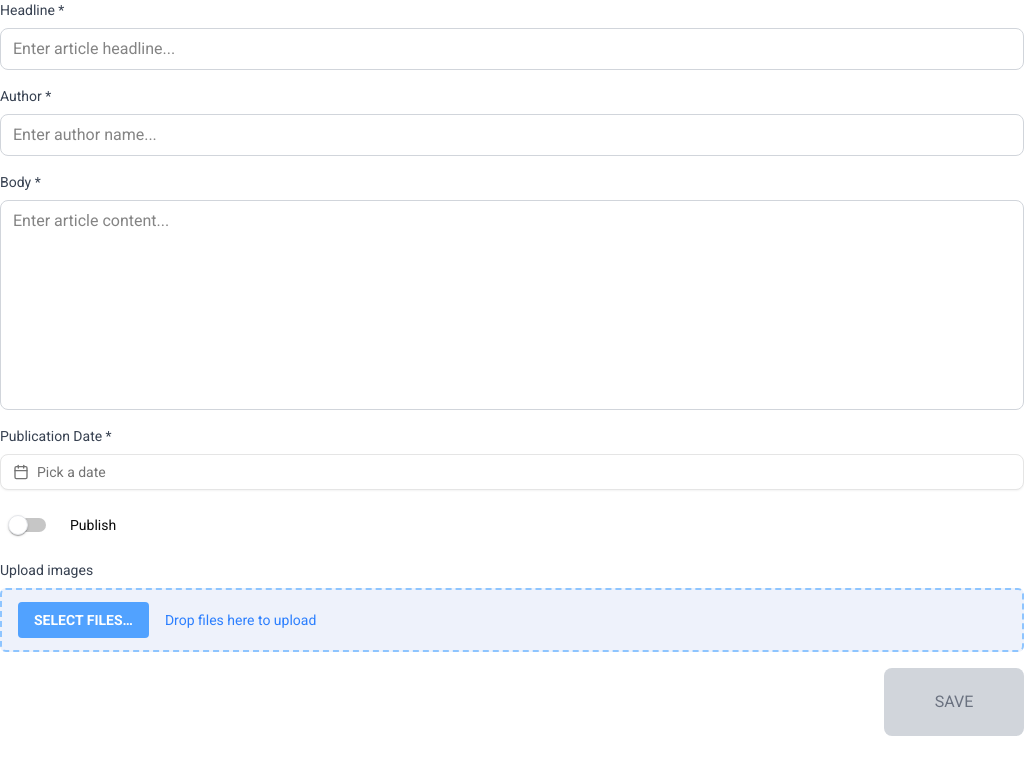
Test: ArticleForm › save button is enabled when all required fields are filled
# Fill all required fields using placeholders
Step 1. Type "Test Headline" into the field with placeholder "Enter article headline..." → [512, 49], box x1=0 y1=28 x2=1023 y2=70
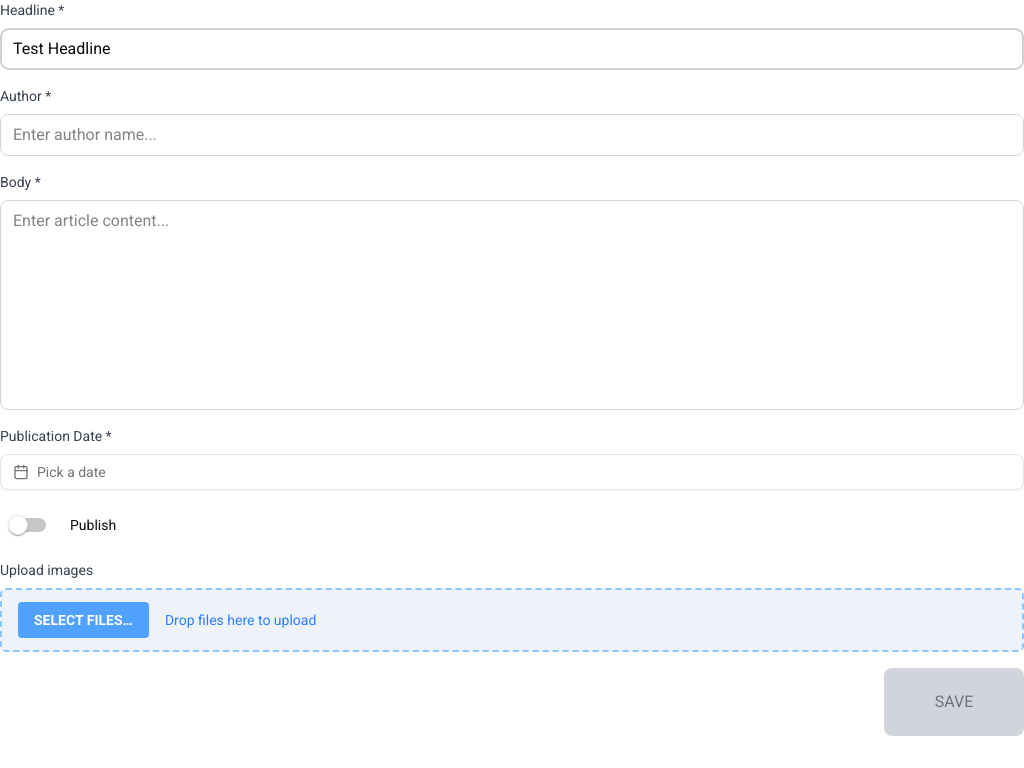
Step 2. Type "Test Author" into the field with placeholder "Enter author name..." → [512, 135], box x1=0 y1=114 x2=1023 y2=156
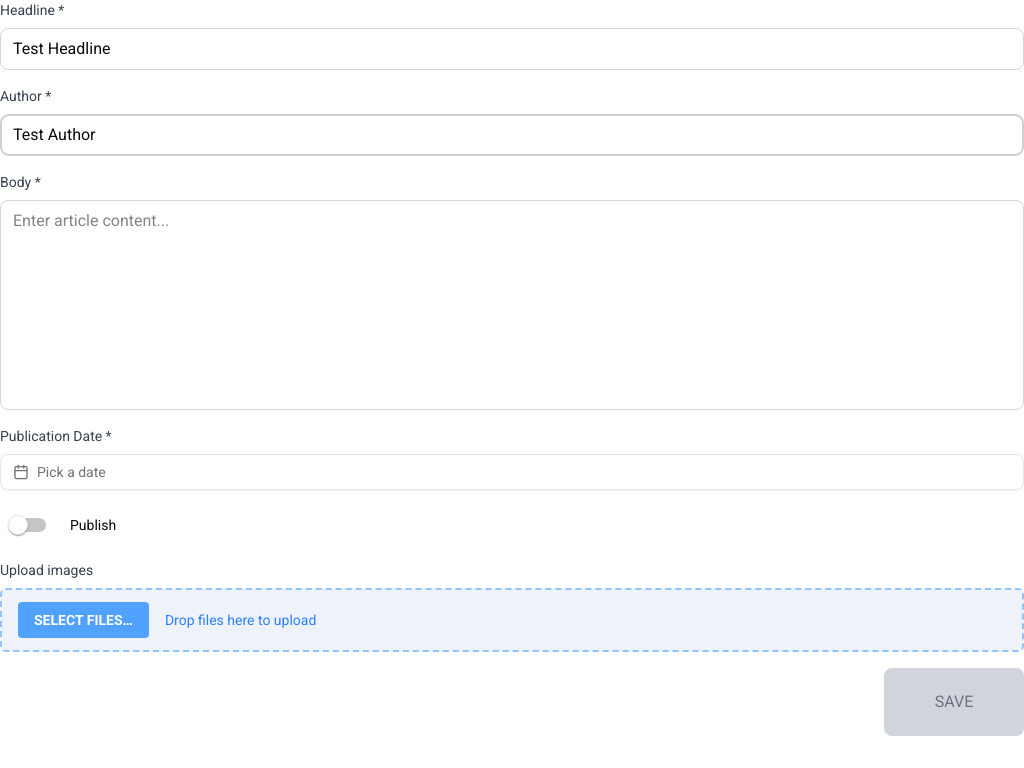
Step 3. Type "Test Body Content" into the text box with placeholder "Enter article content..." → [512, 305], box x1=0 y1=200 x2=1023 y2=410
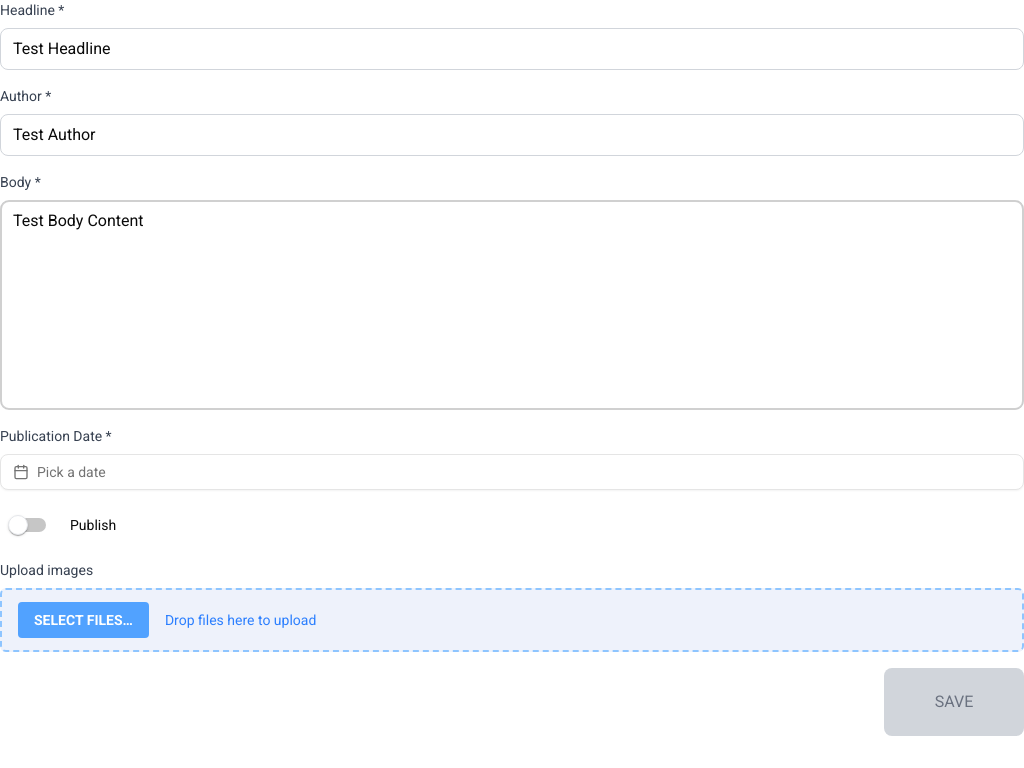
# Open date picker
Step 4. Click the button named "publication date" → [71, 472], box x1=0 y1=454 x2=1023 y2=490
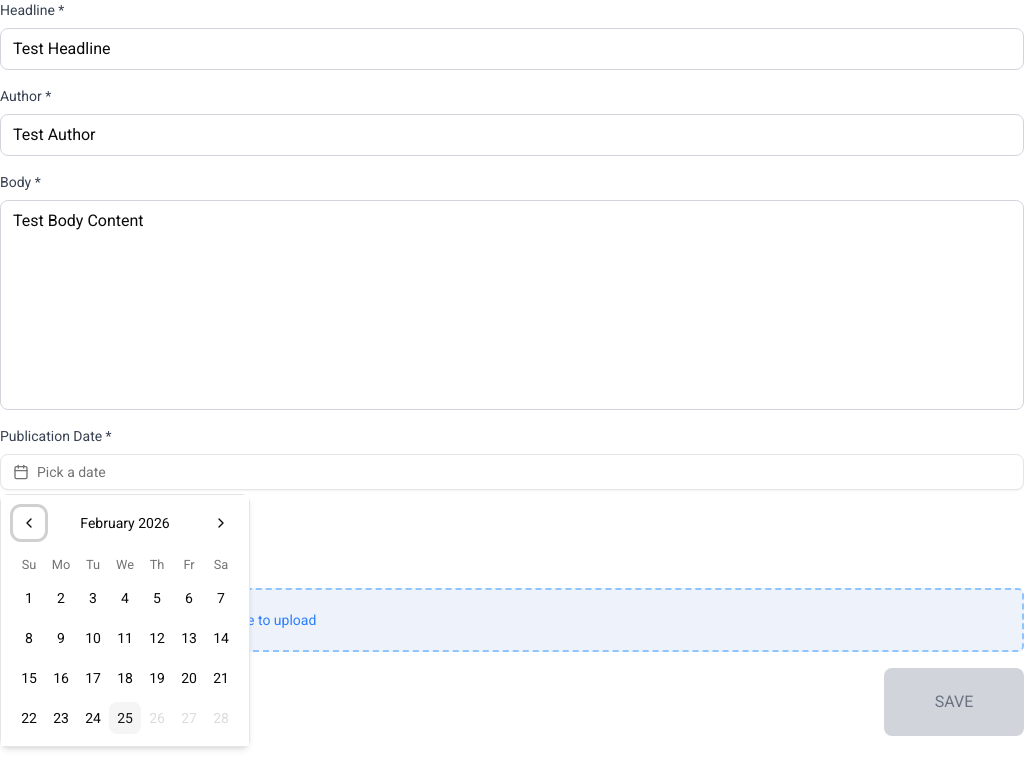
# Find and click day 14 in the calendar
Step 5. Click the button "14" → [221, 638], box x1=205 y1=622 x2=237 y2=654
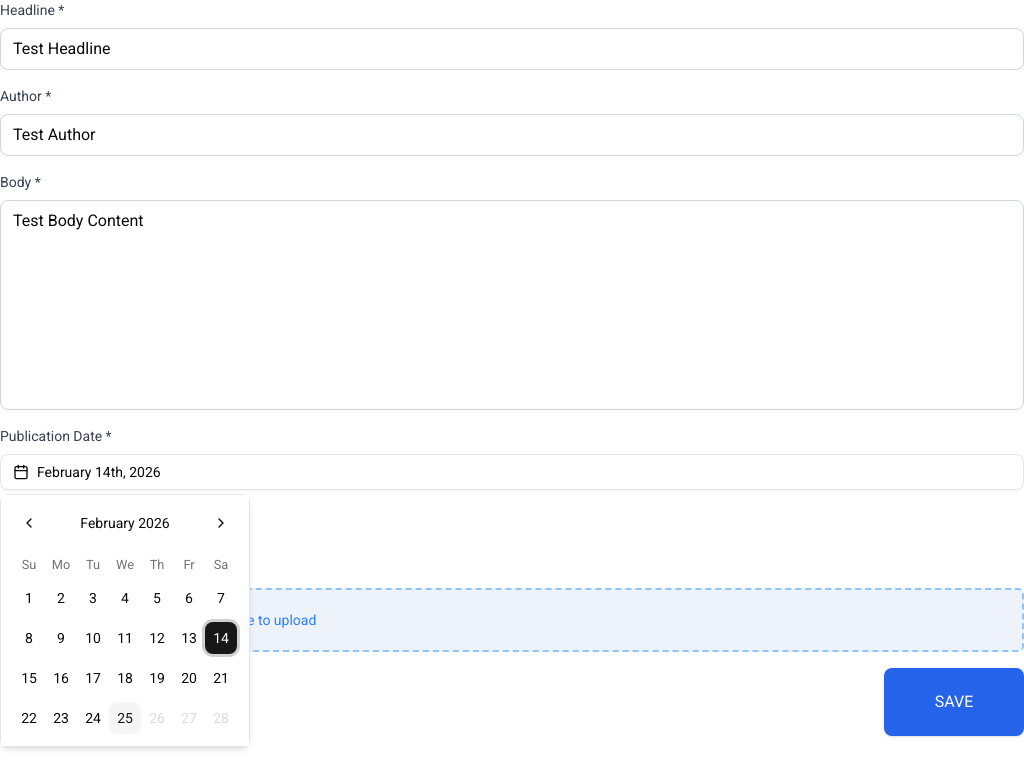
Result: the button "SAVE" is enabled at x1=884 y1=668 x2=1023 y2=736
